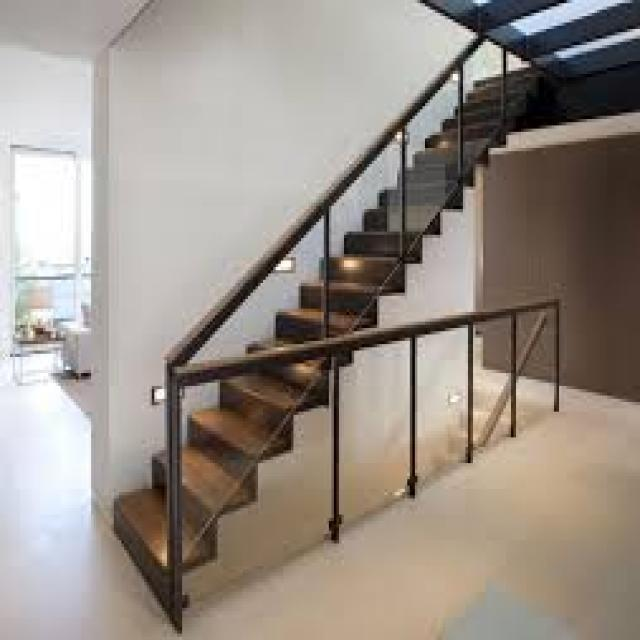stair: (105, 65, 558, 606)
